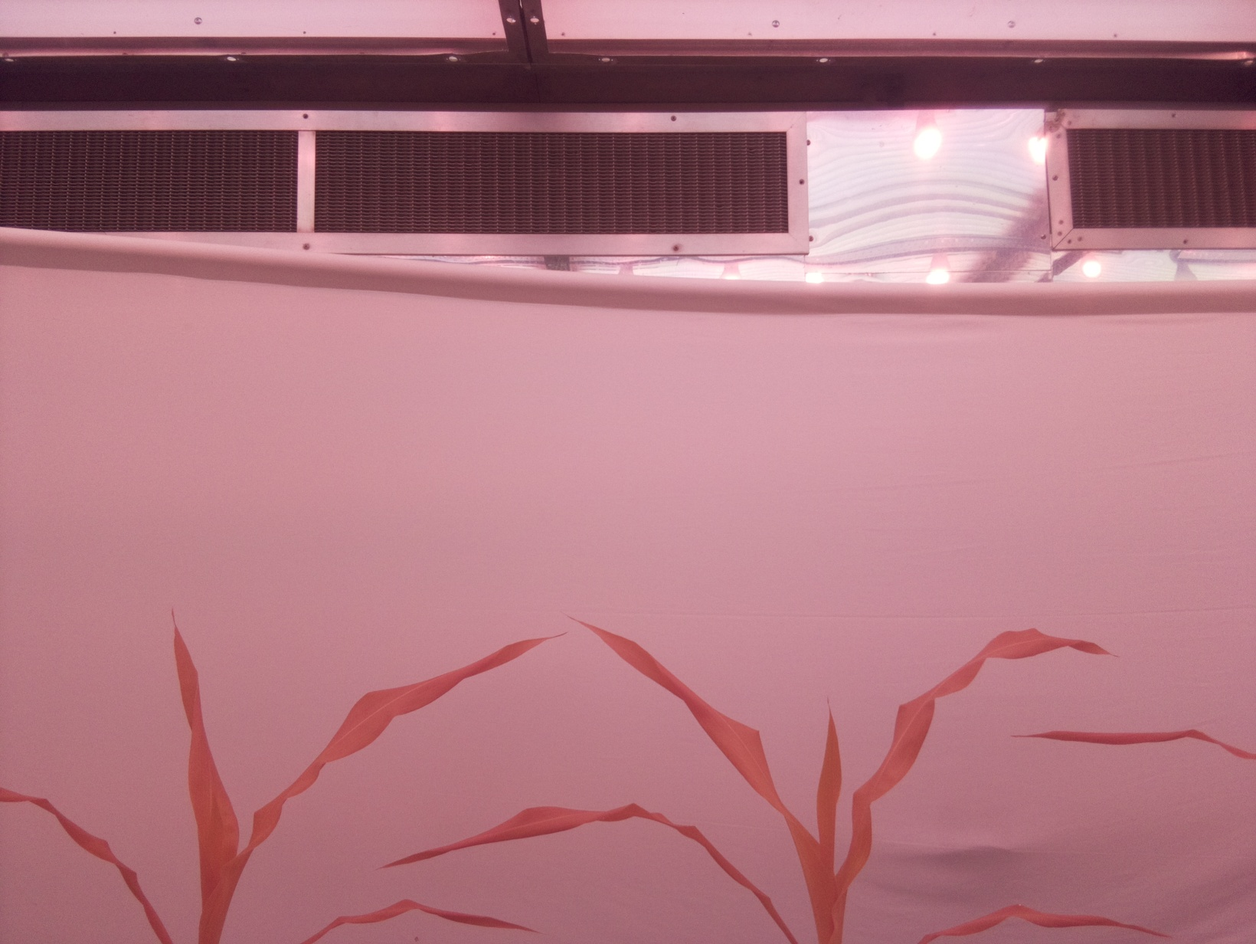maize: (375, 612, 1175, 944), (0, 606, 567, 944), (1009, 726, 1256, 762)
